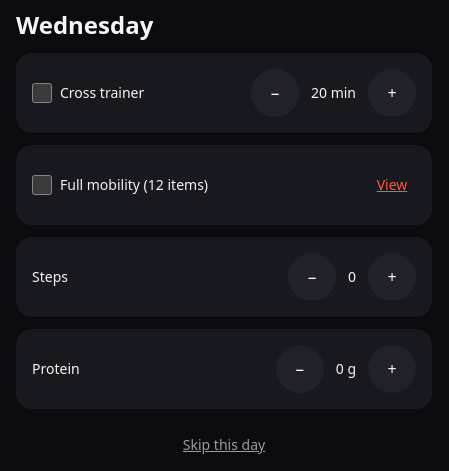
Test: Today screen › adjusting the duration stepper while checked keeps the logged entry in sync
Step 1. Click the checkbox labelled "Cross trainer" → (42, 93), box x1=32 y1=83 x2=52 y2=103
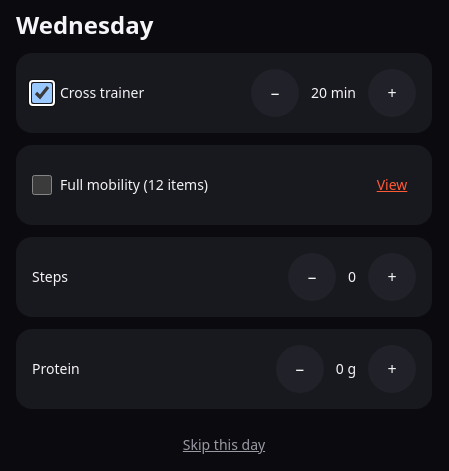
Step 2. Click the button named "Increase minutes" → (392, 93), box x1=368 y1=69 x2=416 y2=117
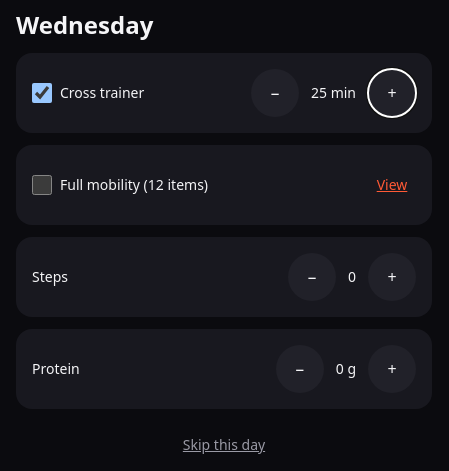
Expected: the text "25 min" is shown, x1=311 y1=83 x2=356 y2=103
